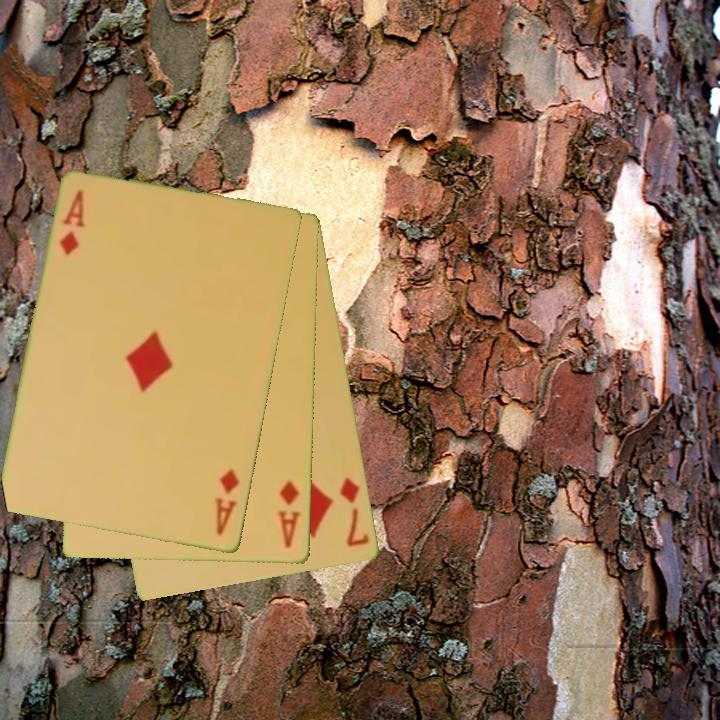7d: (337, 474, 373, 550)
Ad: (211, 465, 243, 539), (56, 186, 88, 259), (275, 478, 305, 552)
